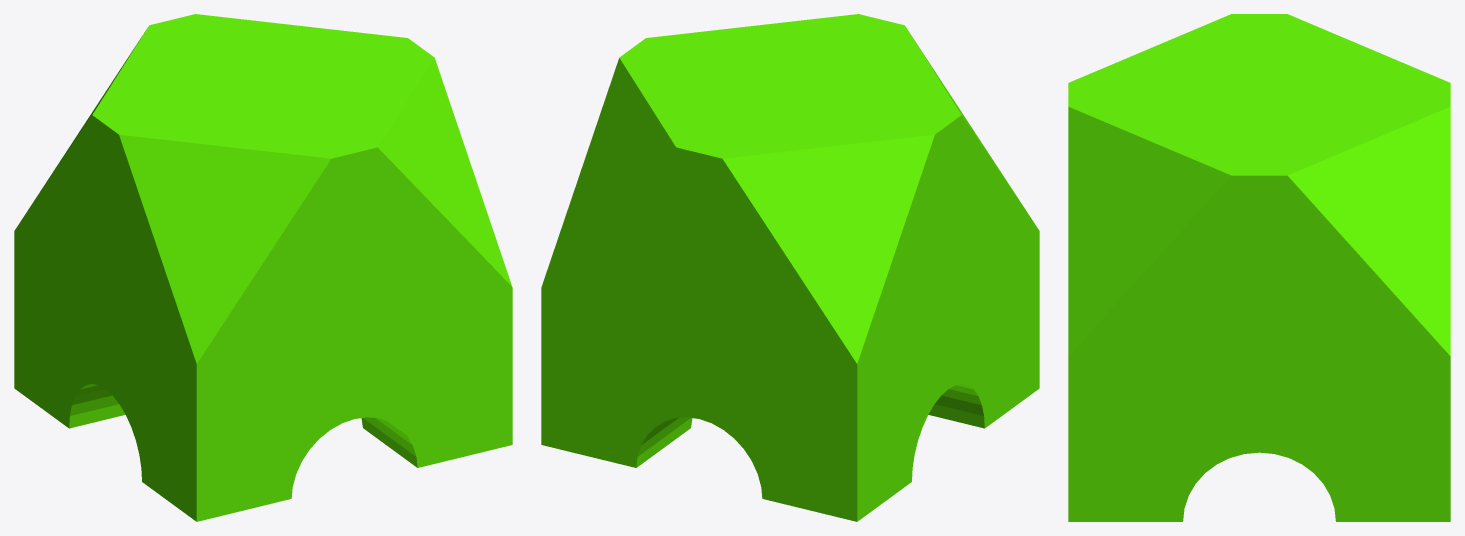
The model's file is shield.obj.
3 views of the same model, side by side, from view 1: azimuth 30°, elevation 25°; view 2: azimuth 150°, elevation 25°; view 3: azimuth 270°, elevation 25° (orthographic). The views are drawn at different scales.
Visible parts, largest first — view 1: Cube.001_Cube.011; view 2: Cube.001_Cube.011; view 3: Cube.001_Cube.011.
Boxes of the visible parts, left/top/right/bottom form: Cube.001_Cube.011: left=14, top=14, right=512, bottom=521; Cube.001_Cube.011: left=541, top=14, right=1039, bottom=521; Cube.001_Cube.011: left=1068, top=14, right=1450, bottom=521.
Size of the model in its own units: 2 by 2 by 2.
1 material, 1 textured.
